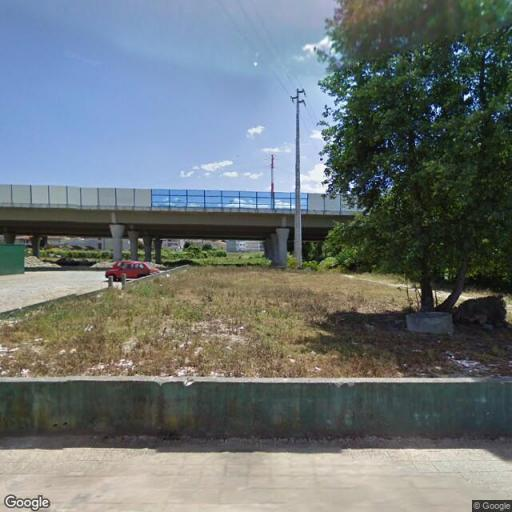mono_10: (292, 83, 306, 269)
